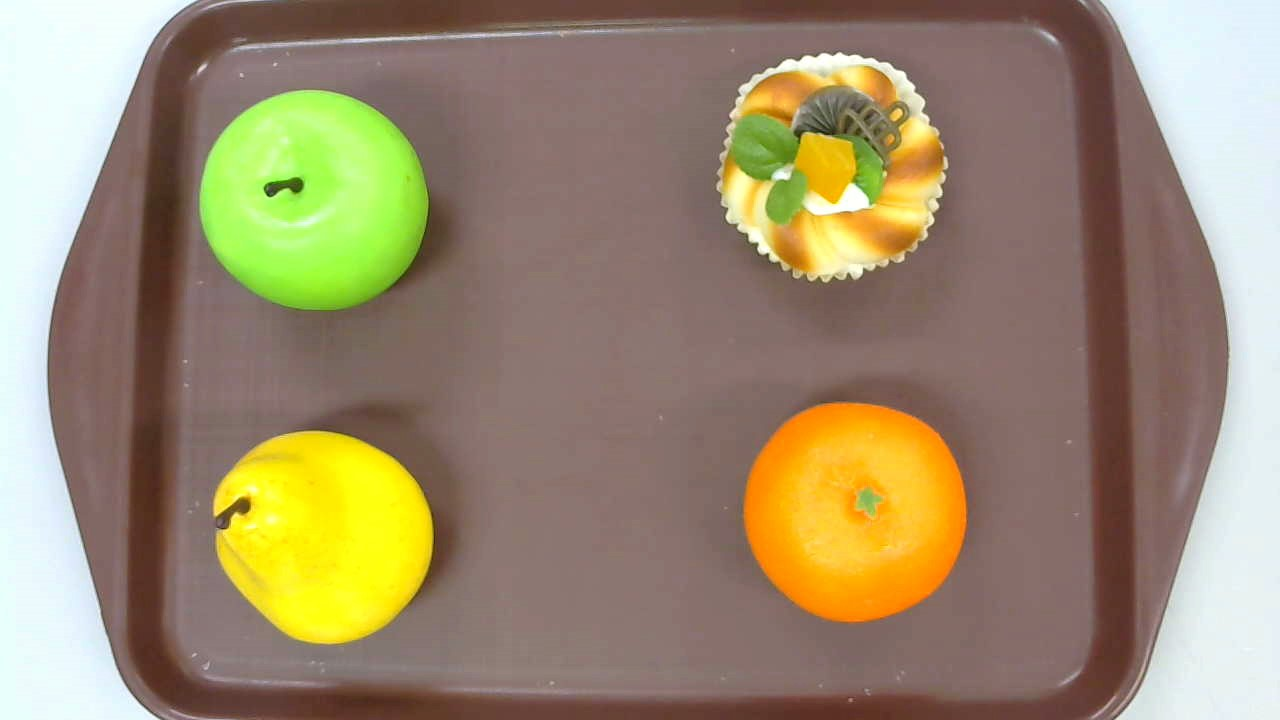fruit tart: (715, 52, 948, 283)
green apple: (199, 89, 428, 313)
orange: (742, 401, 966, 622)
yellow pear: (214, 430, 433, 643)
